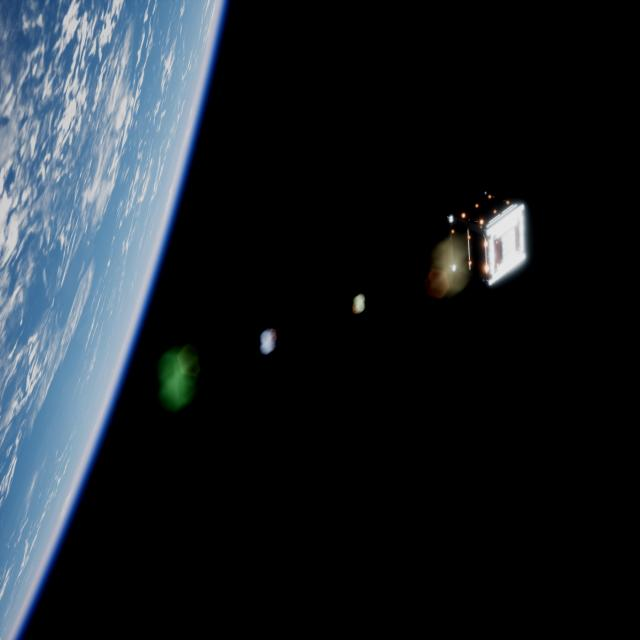medium_debris: (444, 188, 529, 294)
